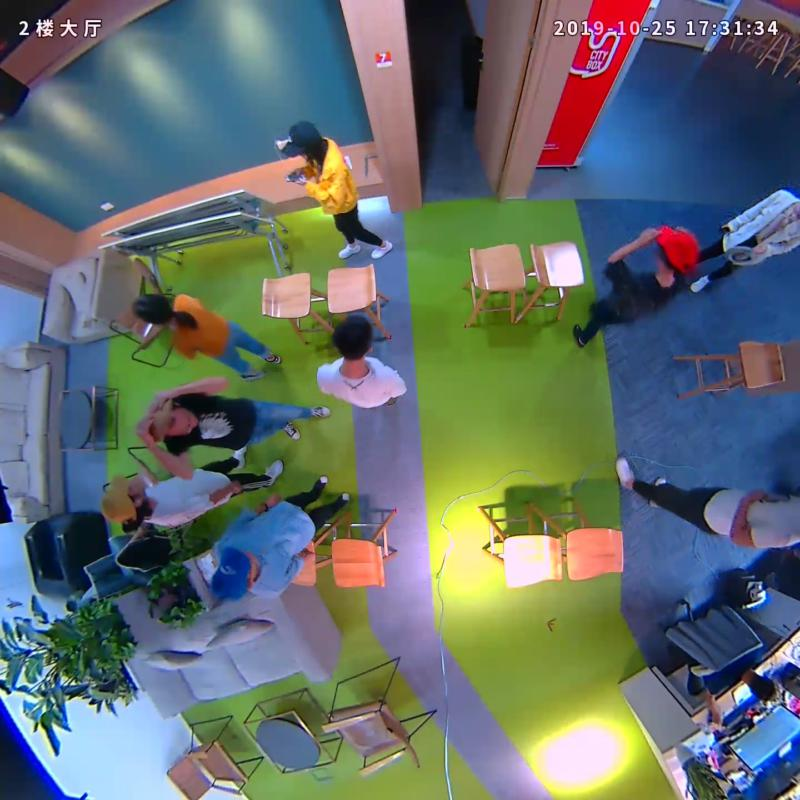head: (210, 548, 259, 603), (654, 223, 700, 279), (100, 475, 147, 522), (148, 401, 198, 440), (332, 315, 373, 362), (282, 121, 319, 159), (133, 294, 174, 326)
